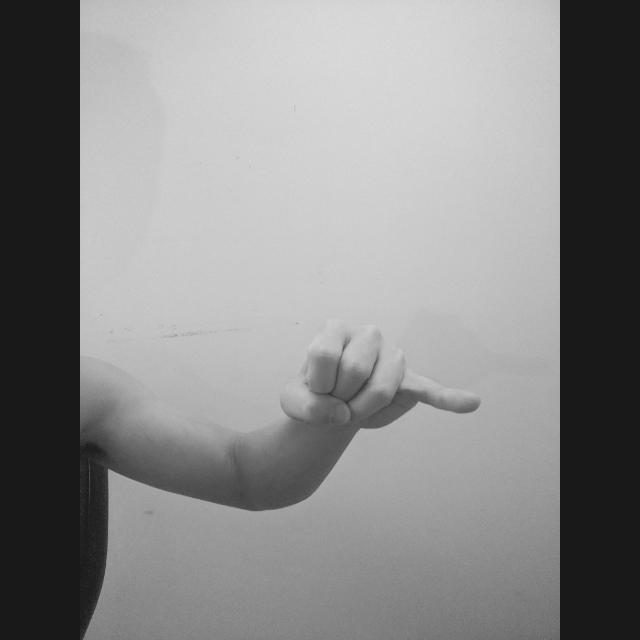J: (270, 311, 488, 435)
